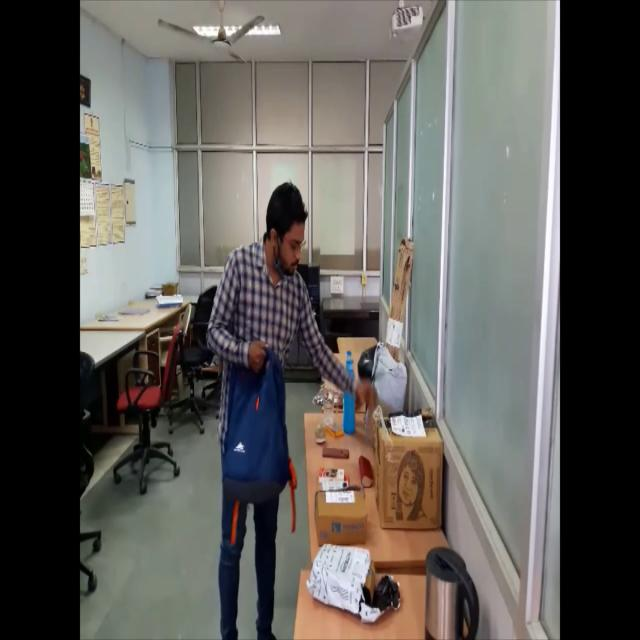shoplifting: (201, 158, 328, 640)
